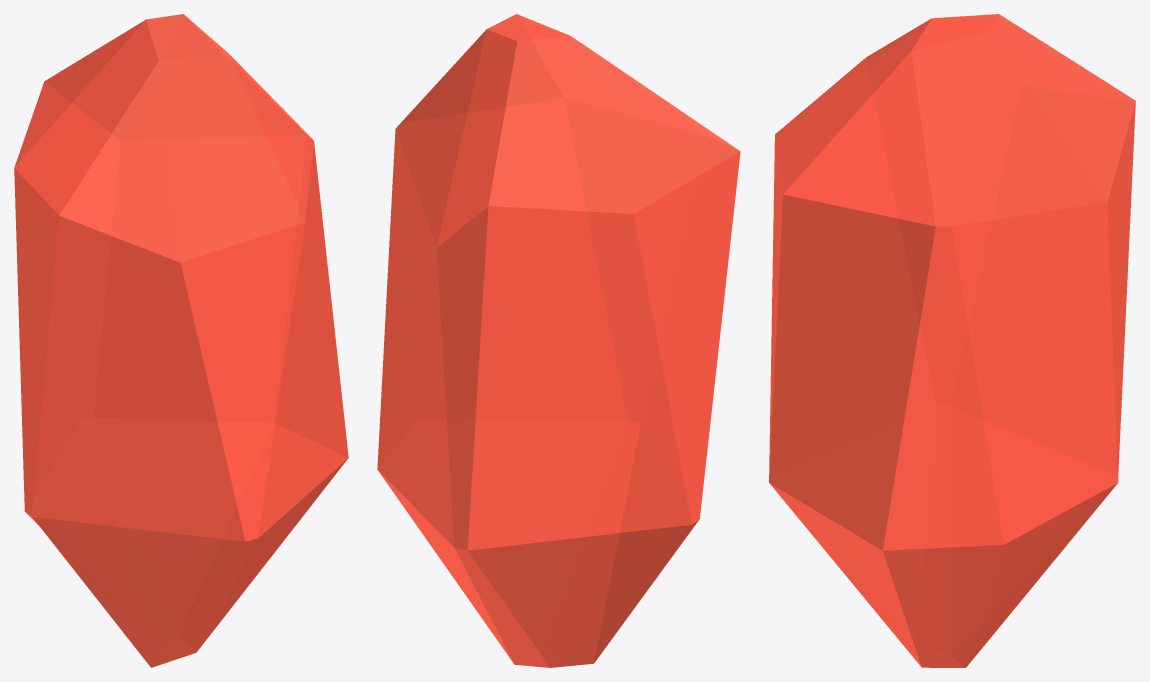
The model's file is CRYSTAL.fbx.
3 renders of one model, left to right at view 1: azimuth 30°, elevation 25°; view 2: azimuth 150°, elevation 25°; view 3: azimuth 270°, elevation 25°, orthographic. The views are drawn at different scales.
Visible parts, largest first — view 1: Cube; view 2: Cube; view 3: Cube.
Part boxes in pixels (box(x1,y1,x2,y2)): Cube: box(14, 14, 348, 667); Cube: box(377, 14, 740, 667); Cube: box(769, 14, 1135, 667).
Size of the model in its own units: 32.51 by 63.91 by 32.74.
